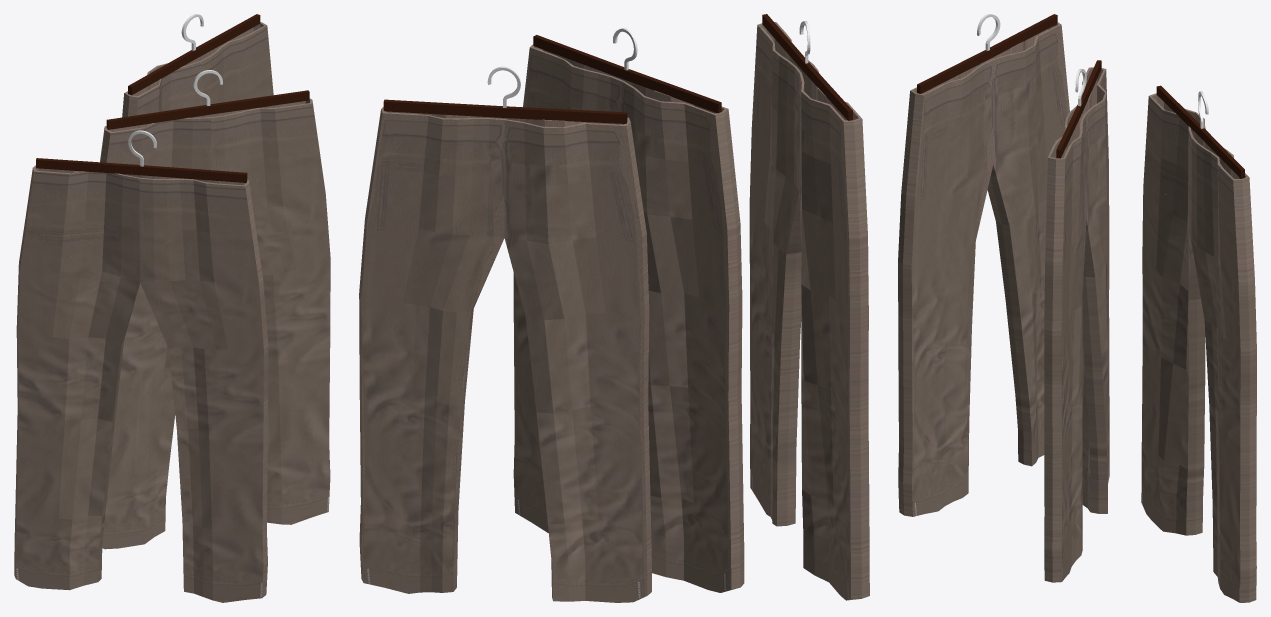
Rendered from chinokhaki1.glb.
3 views of the same model, side by side, from view 1: azimuth 30°, elevation 25°; view 2: azimuth 150°, elevation 25°; view 3: azimuth 270°, elevation 25° (orthographic). The views are drawn at different scales.
Visible parts, largest first — view 1: Plane.327; view 2: Plane.327; view 3: Plane.327.
Boxes of the visible parts, x1,y1,x2,y2 form: Plane.327: (14, 14, 330, 602); Plane.327: (359, 14, 869, 602); Plane.327: (898, 14, 1256, 602).
Size of the model in its own units: 0.3759 by 0.4706 by 0.3277.
3 materials, 3 textured.
